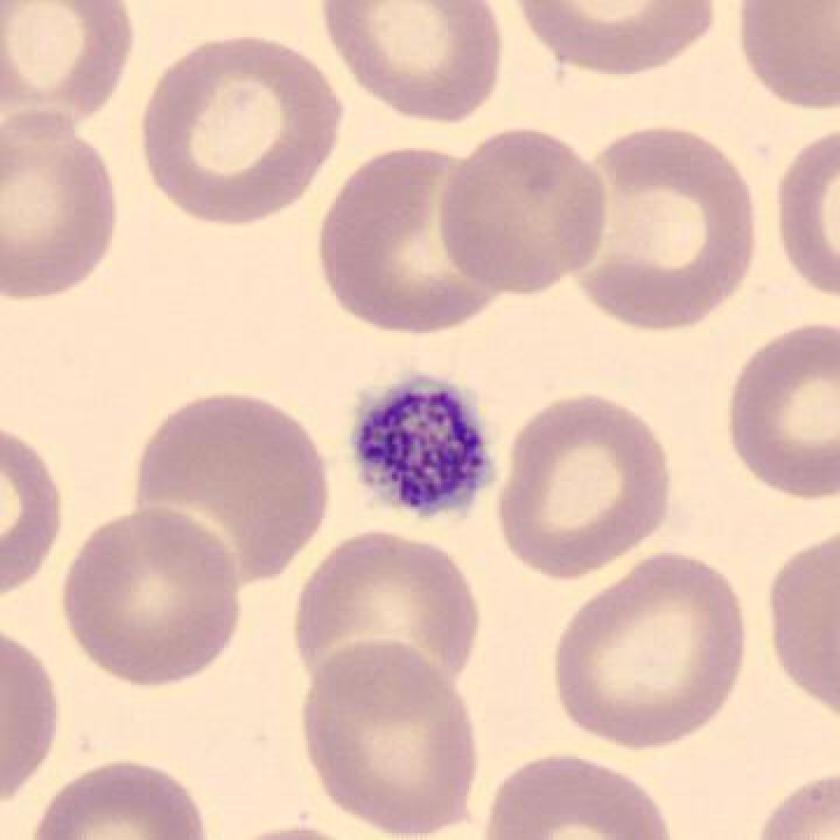platelets: (342, 360, 507, 533)
